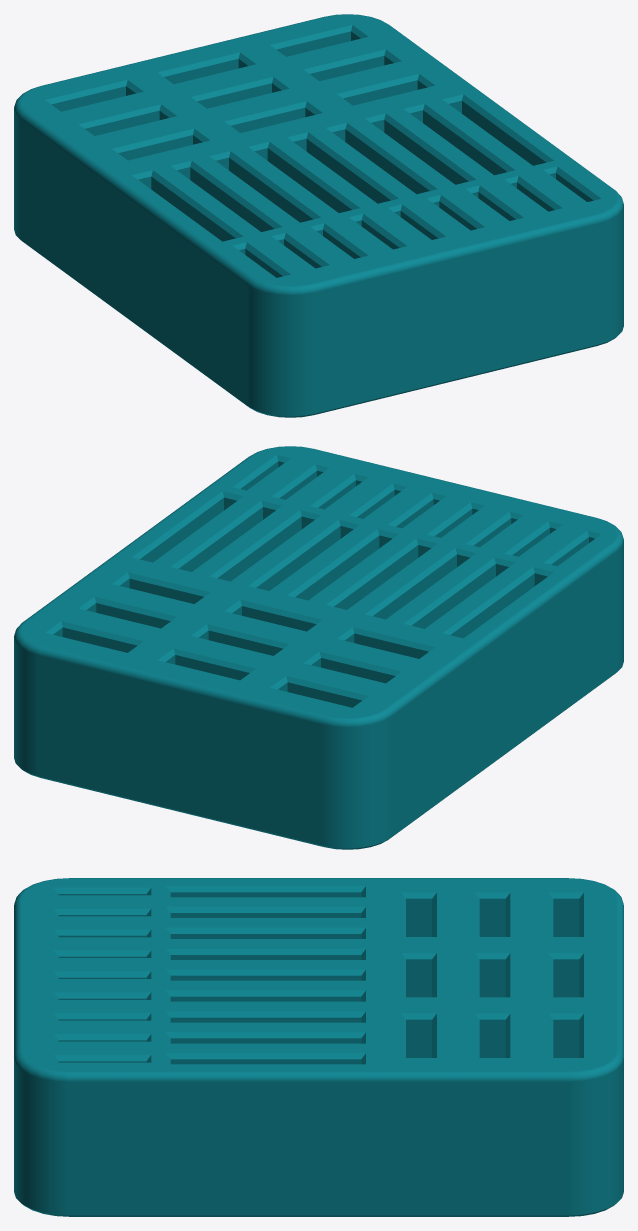
Rendered from SD Card Organizer.glb.
3 views of the same model, one above another, from view 1: azimuth 30°, elevation 25°; view 2: azimuth 150°, elevation 25°; view 3: azimuth 270°, elevation 25° (orthographic). The views are drawn at different scales.
Parts seen in each view (by area): view 1: SD Card Organizer; view 2: SD Card Organizer; view 3: SD Card Organizer.
Part boxes in pixels (x1,y1,x2,y2): SD Card Organizer: [14, 14, 623, 417]; SD Card Organizer: [14, 446, 623, 849]; SD Card Organizer: [14, 878, 623, 1216].
Bounding box in the file's own units: 5.96 × 2 × 7.71.
